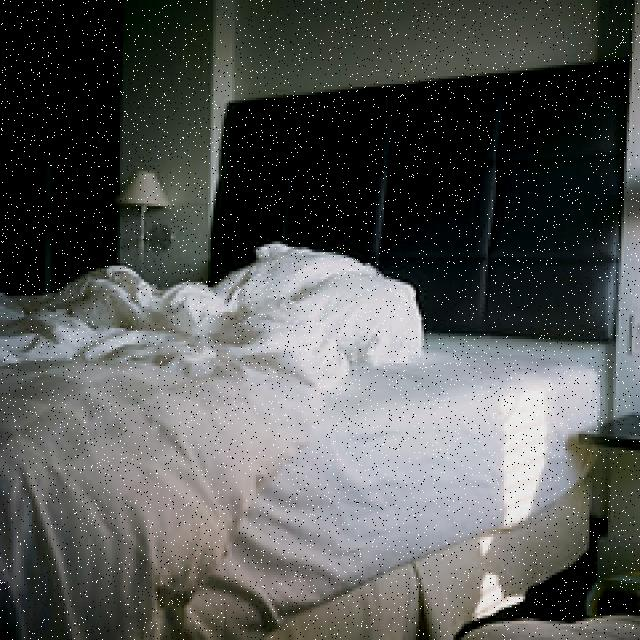bed: (0, 239, 602, 640)
